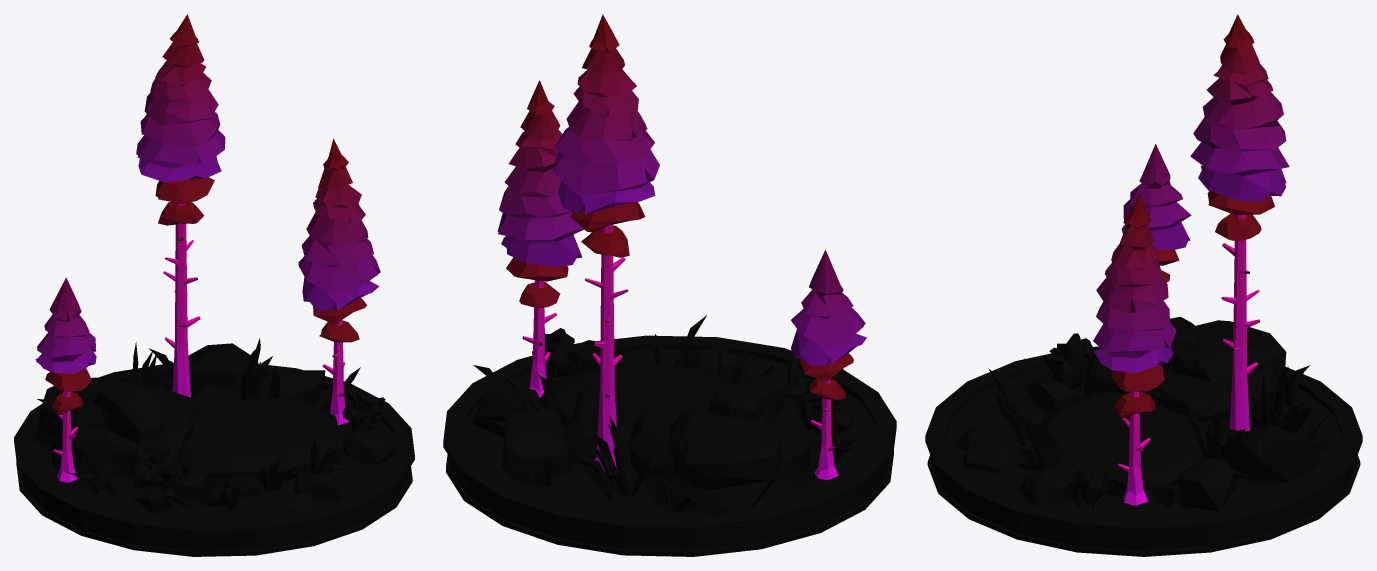
The model's file is Prop_Diorama_03.glb.
3 views of the same model, side by side, from view 1: azimuth 30°, elevation 25°; view 2: azimuth 150°, elevation 25°; view 3: azimuth 270°, elevation 25° (orthographic). The views are drawn at different scales.
Visible parts, largest first — view 1: SM_Prop_Diorama_01.main, SM_Prop_Diorama_01.base; view 2: SM_Prop_Diorama_01.main, SM_Prop_Diorama_01.base; view 3: SM_Prop_Diorama_01.main, SM_Prop_Diorama_01.base.
Boxes of the visible parts, x1,y1,x2,y2 form: SM_Prop_Diorama_01.main: (32,14,397,523); SM_Prop_Diorama_01.base: (14,362,414,556); SM_Prop_Diorama_01.main: (463,14,876,518); SM_Prop_Diorama_01.base: (443,335,896,556); SM_Prop_Diorama_01.main: (945,14,1342,520); SM_Prop_Diorama_01.base: (925,346,1362,556).
Bounding box in the file's own units: 4.99 × 5.78 × 4.99.
